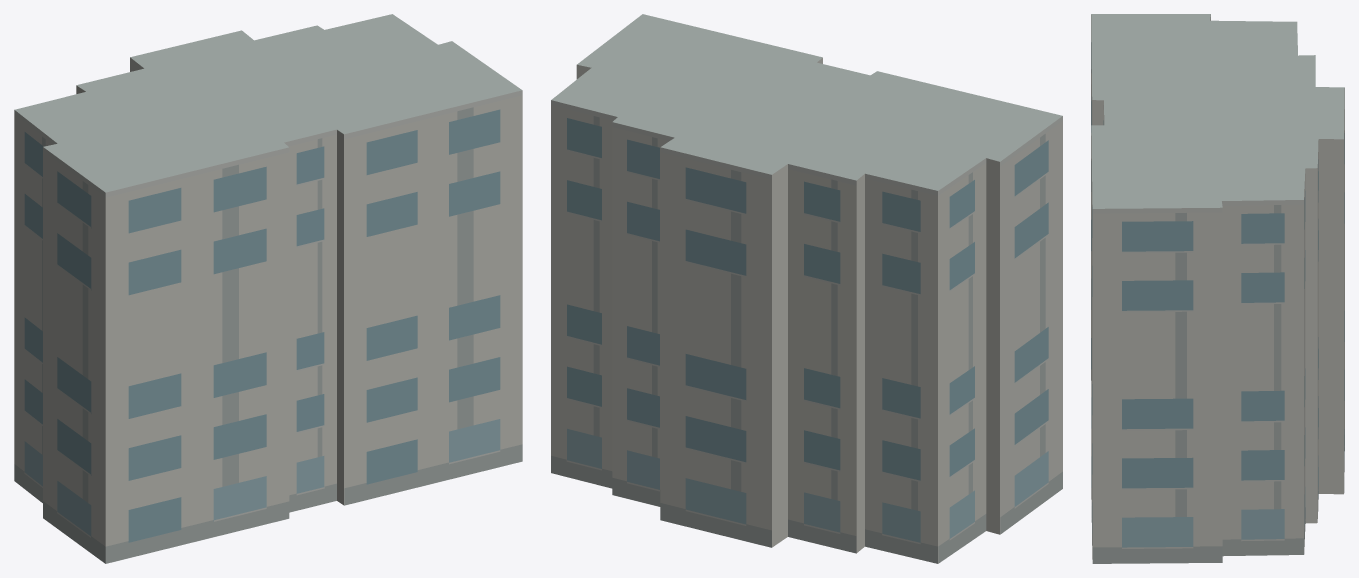
The model's file is survey-upis-32803259.glb.
The picture shows the model from 3 angles, left to right: view 1: azimuth 30°, elevation 25°; view 2: azimuth 150°, elevation 25°; view 3: azimuth 270°, elevation 25°; orthographic projection. The views are drawn at different scales.
Parts seen in each view (by area): view 1: survey-upis-32803259.tmp; view 2: survey-upis-32803259.tmp; view 3: survey-upis-32803259.tmp.
Boxes of the visible parts, x1,y1,x2,y2 form: survey-upis-32803259.tmp: (14, 14, 522, 563); survey-upis-32803259.tmp: (551, 14, 1062, 563); survey-upis-32803259.tmp: (1091, 14, 1344, 563).
Size of the model in its own units: 21.56 by 18.3 by 11.86.
